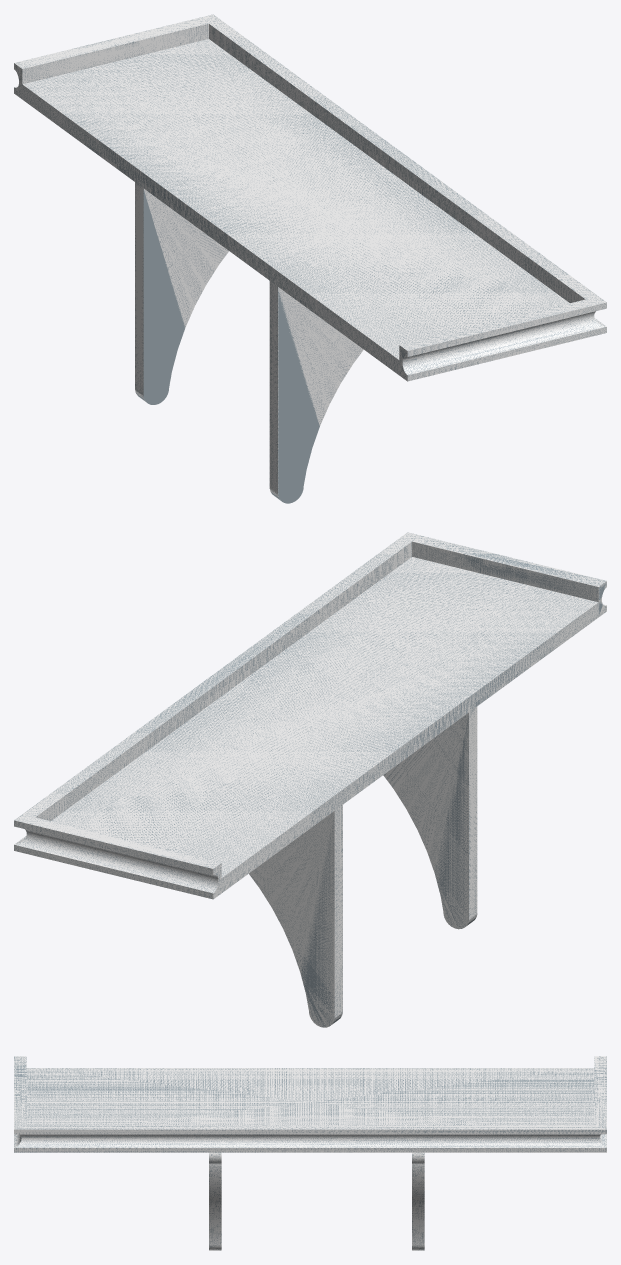
The model's file is Bourbon_shelf.fbx.
The picture shows the model from 3 angles, top to bottom: view 1: azimuth 30°, elevation 25°; view 2: azimuth 150°, elevation 25°; view 3: azimuth 270°, elevation 25°; orthographic projection. The views are drawn at different scales.
Parts seen in each view (by area): view 1: Shelf_1_1, Component_33_1, Component_34_1, front_molding1, left_molding1, right_molding1; view 2: Shelf_1_1, Component_33_1, Component_34_1, front_molding1, right_molding1, left_molding1; view 3: Shelf_1_1, front_molding1, Component_33_1, Component_34_1, right_molding1, left_molding1.
Boxes of the visible parts, x1,y1,x2,y2 form: Shelf_1_1: (22,39,569,374); Component_33_1: (269,281,363,503); Component_34_1: (135,182,228,404); front_molding1: (209,14,606,326); left_molding1: (399,299,606,381); right_molding1: (14,14,213,98); Shelf_1_1: (51,557,598,892); Component_33_1: (383,706,477,929); Component_34_1: (249,805,342,1027); front_molding1: (14,532,411,844); right_molding1: (14,817,221,899); left_molding1: (408,532,606,616); Shelf_1_1: (26,1068,594,1124); front_molding1: (14,1125,606,1152); Component_33_1: (209,1152,221,1250); Component_34_1: (412,1152,424,1250); right_molding1: (594,1056,606,1147); left_molding1: (14,1056,26,1147).
Size of the model in its own units: 13.69 by 16.41 by 46.81.
